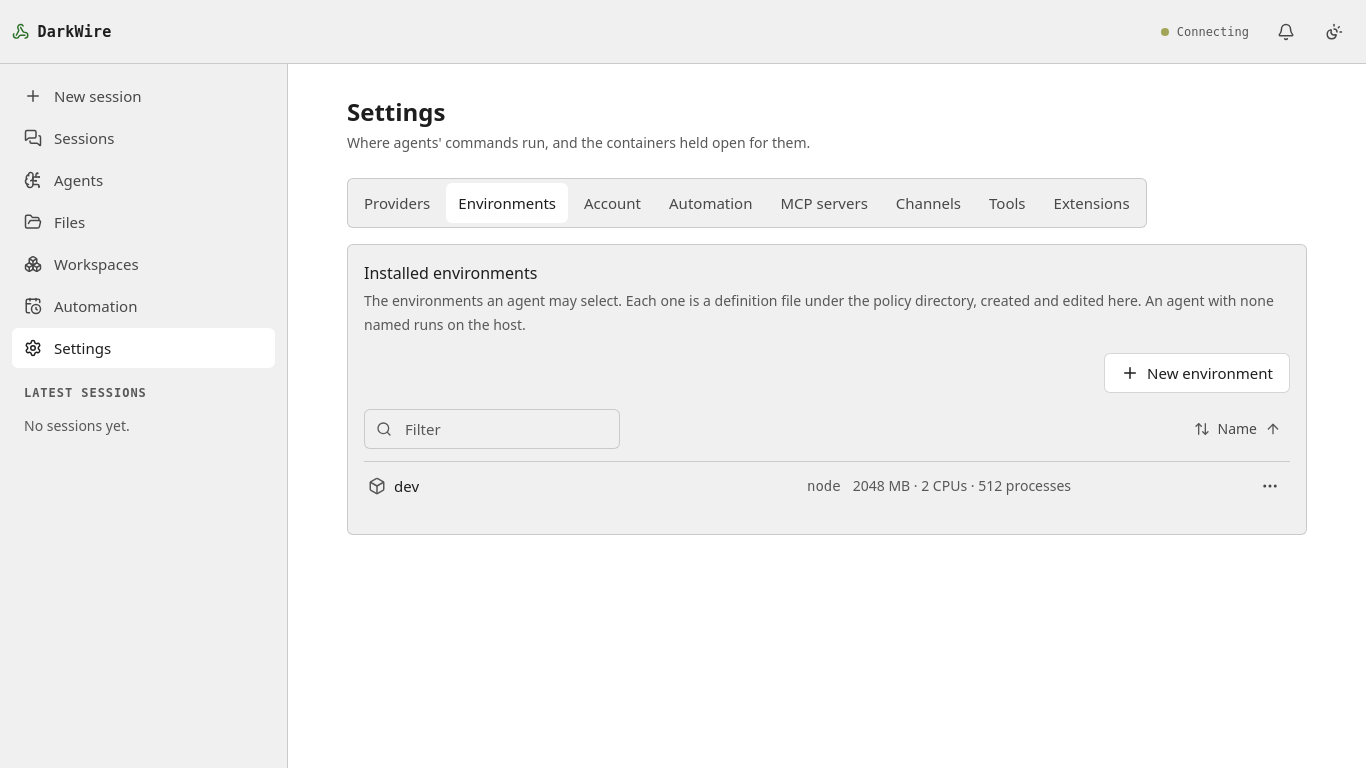
the environments panel › asks before removing one, and says what it costs
The width and height of the screenshot is (1366, 768).
What coordinates should you click on to do the following:
click the button named "Actions for dev"
I would click on:
 (1270, 486)
Its box is [1250,466,1290,506].
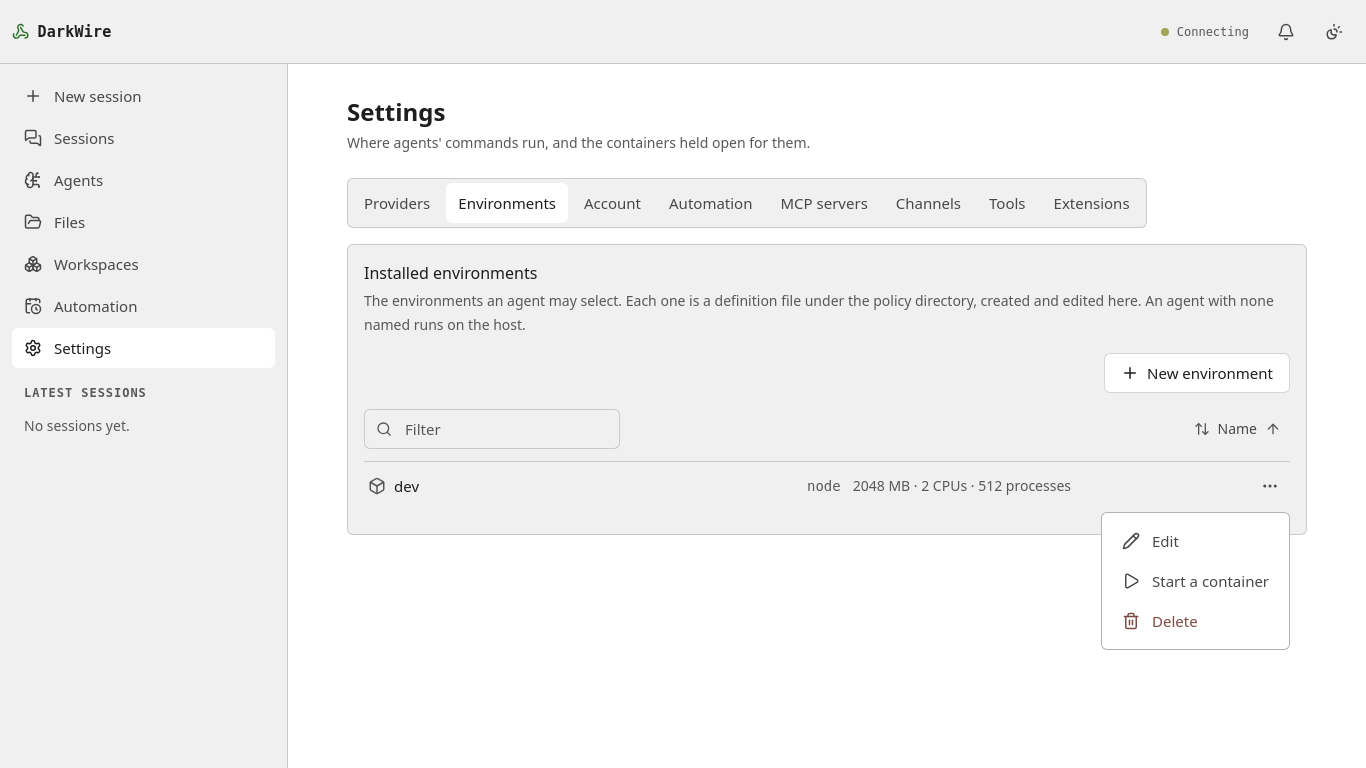
What coordinates should you click on to do the following:
click the menu item "Delete"
I would click on:
 (1160, 621)
Its box is [1122,611,1198,631].
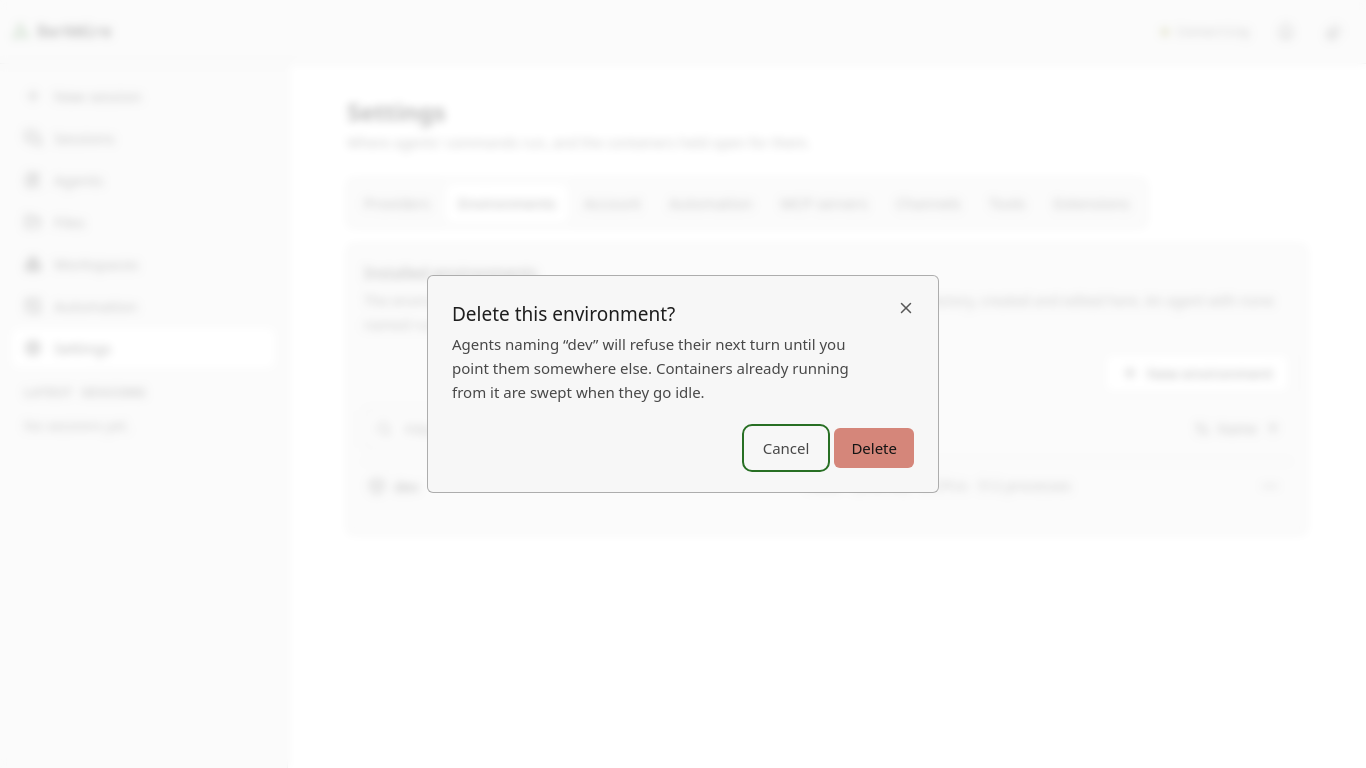
Result: the text "Agents naming .dev. will refuse their next turn" is shown at [452,334,849,402]
